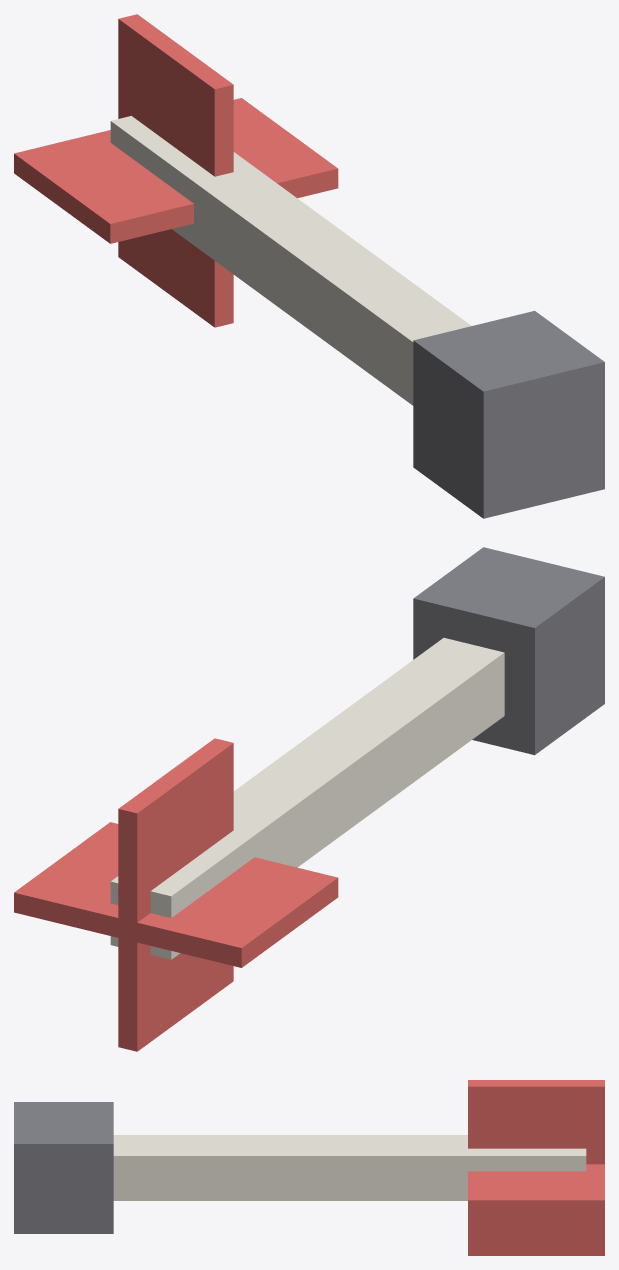
File: bone_arrow.gltf
3 views of the same model, one above another, from view 1: azimuth 30°, elevation 25°; view 2: azimuth 150°, elevation 25°; view 3: azimuth 270°, elevation 25° (orthographic). The views are drawn at different scales.
Visible parts, largest first — view 1: head, shaft, fletch_b, fletch_a; view 2: shaft, head, fletch_b, fletch_a; view 3: shaft, fletch_b, head, fletch_a.
Boxes of the visible parts, x1,y1,x2,y2 form: head: [413, 310, 604, 518]; shaft: [110, 116, 471, 405]; fletch_b: [118, 14, 233, 327]; fletch_a: [14, 98, 338, 243]; shaft: [110, 638, 504, 959]; head: [413, 547, 604, 755]; fletch_b: [118, 738, 233, 1051]; fletch_a: [14, 822, 338, 967]; shaft: [113, 1135, 586, 1200]; fletch_b: [468, 1080, 604, 1255]; head: [14, 1102, 113, 1233]; fletch_a: [468, 1164, 604, 1214].
Size of the model in its own units: 0.3 by 0.3 by 0.95.
